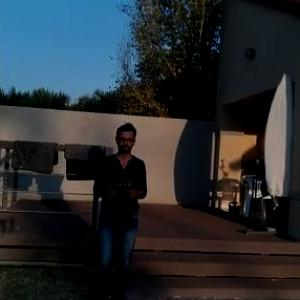follow: (87, 116, 152, 299)
